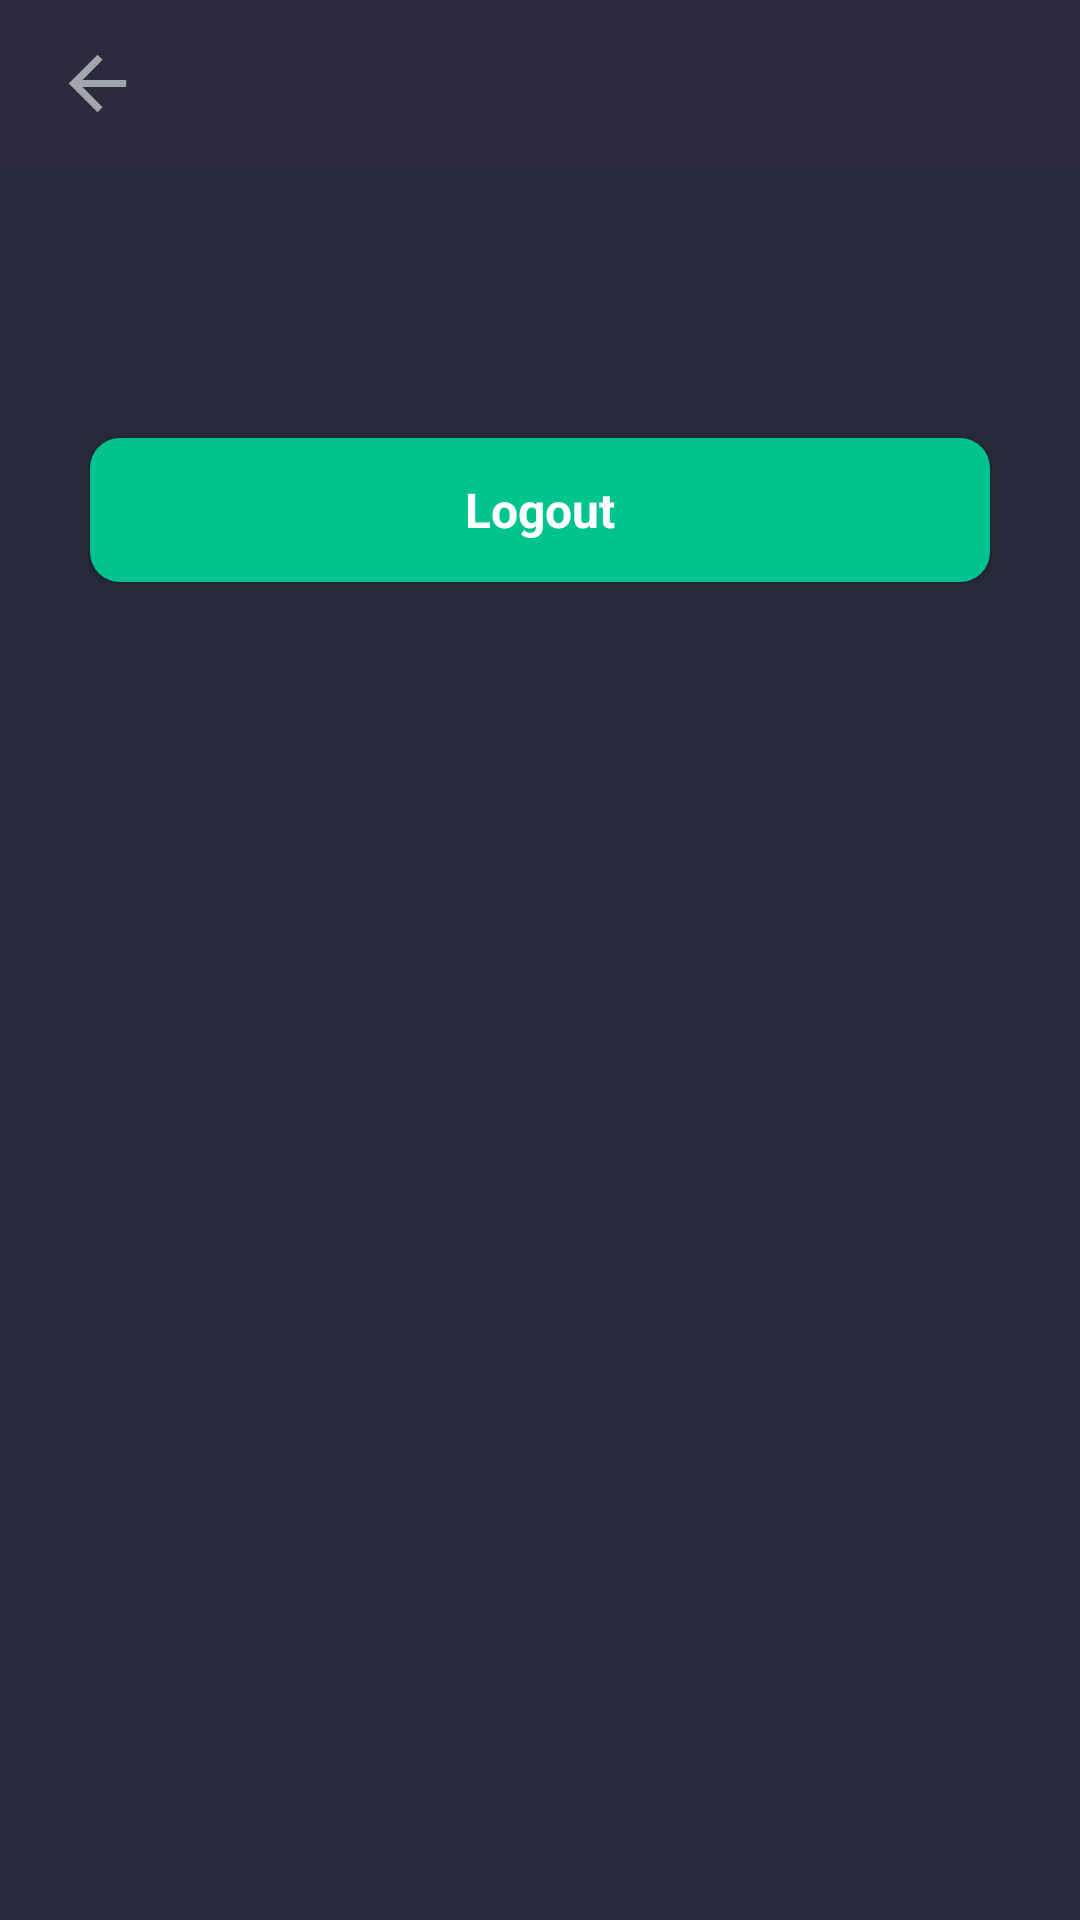

Screen size 1080px x 1920px. Icon name, then its box in pixels as (x1, y1, x2, y2):
left arrow: (69, 55, 127, 112)
